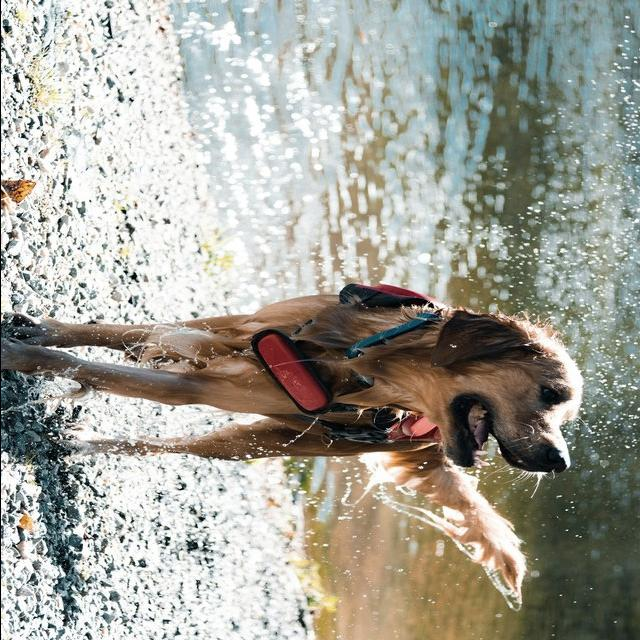retriever: (2, 283, 584, 603)
